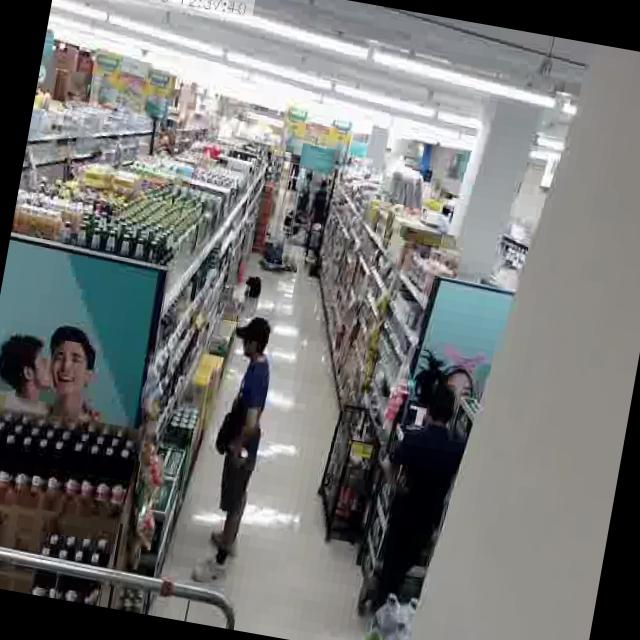shoplifting: (176, 302, 292, 592)
